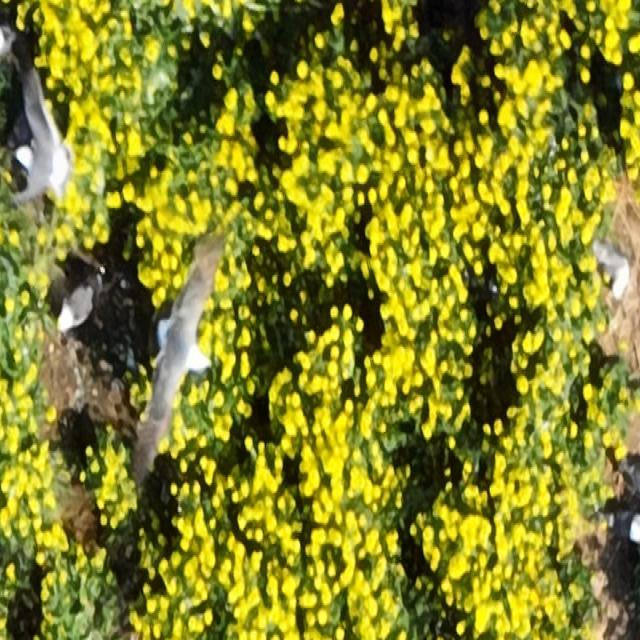F: (8, 66, 78, 204), (150, 286, 219, 423)
umineko: (593, 238, 633, 297), (59, 281, 97, 329), (614, 506, 636, 546)
